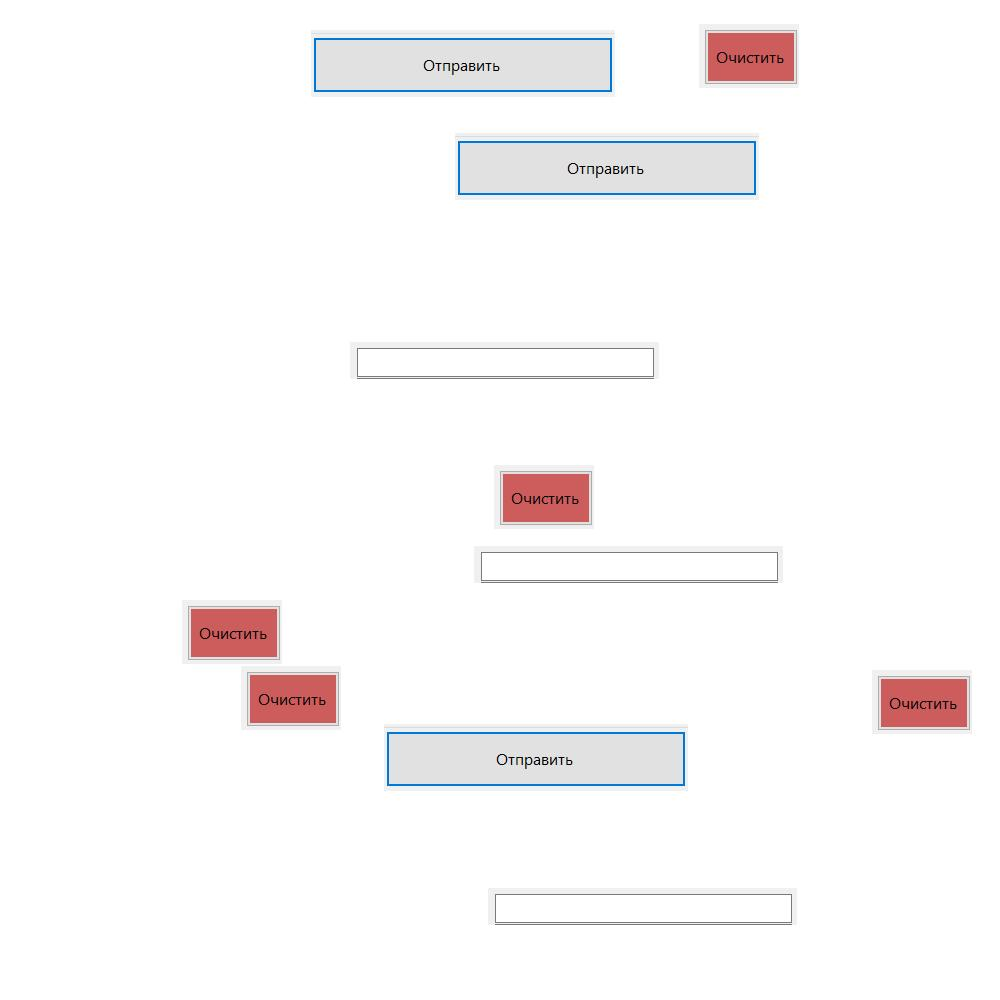Button: (455, 133, 759, 200), (384, 724, 688, 791), (311, 30, 615, 97), (699, 24, 799, 88), (182, 600, 282, 664), (872, 670, 972, 734), (241, 666, 341, 730), (494, 465, 594, 529)
EditText-: (488, 888, 797, 925), (474, 546, 783, 583), (350, 342, 659, 379)
